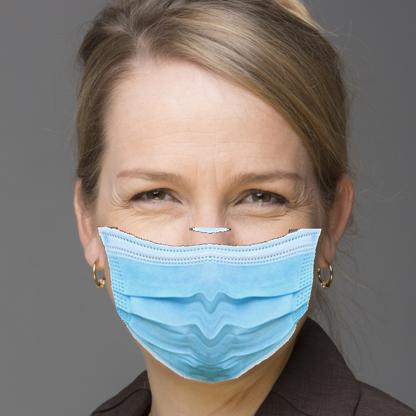mask: (96, 224, 321, 384)
